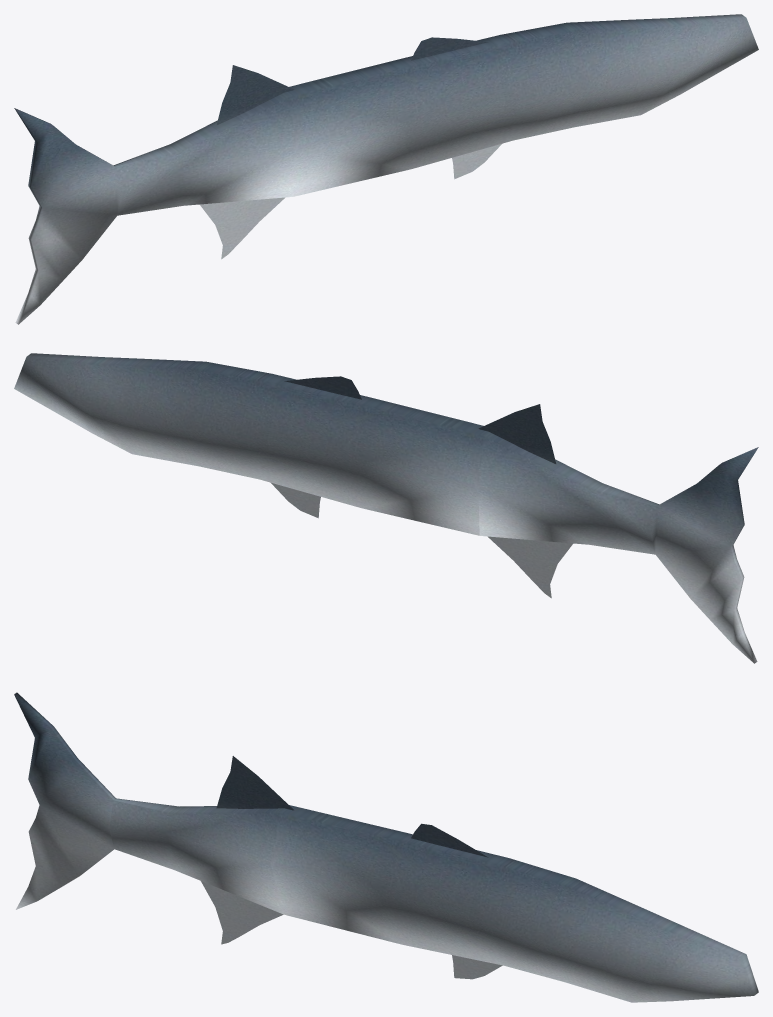
File: barracuda.fbx
3 views of the same model, one above another, from view 1: azimuth 30°, elevation 25°; view 2: azimuth 150°, elevation 25°; view 3: azimuth 330°, elevation 25° (orthographic).
Parts seen in each view (by area): view 1: barracuda; view 2: barracuda; view 3: barracuda.
Part boxes in pixels (bbox=[...]): barracuda: bbox=[14, 14, 758, 324]; barracuda: bbox=[14, 353, 758, 663]; barracuda: bbox=[14, 692, 758, 1002].
Size of the model in its own units: 1.4 by 0.3886 by 0.1261.
Materials: 1 (1 with a texture image).
